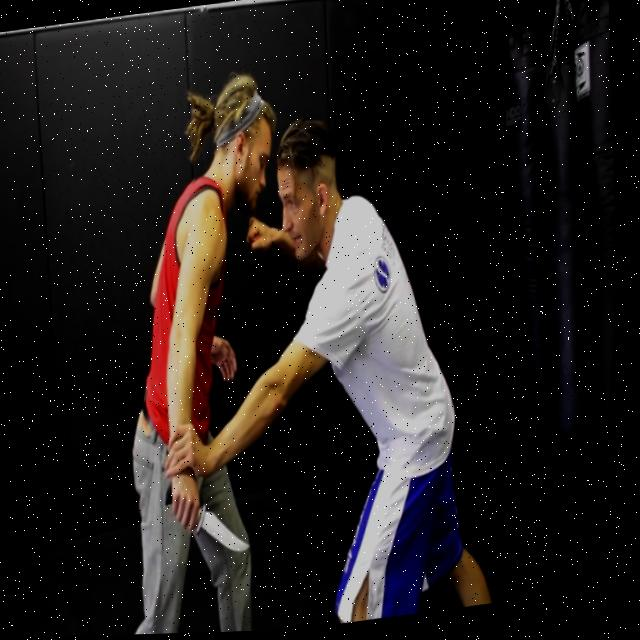knife: (199, 497, 263, 559)
